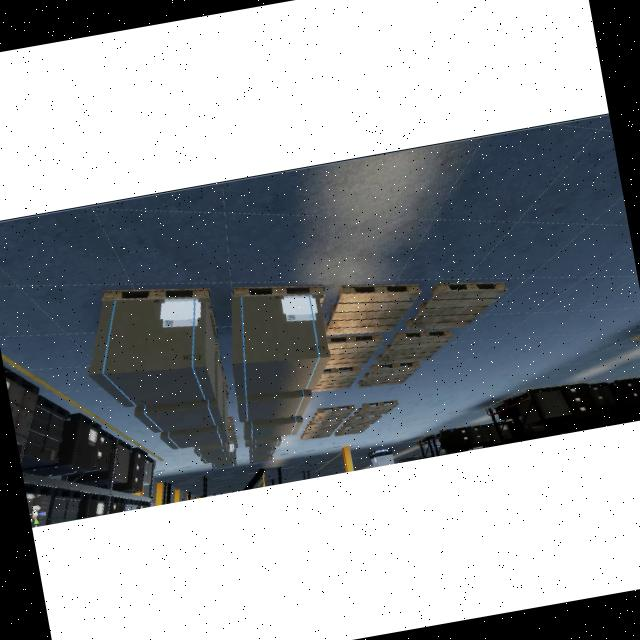wooden_pallet: (405, 281, 508, 328), (325, 283, 422, 332), (376, 328, 455, 365), (353, 399, 399, 417), (311, 405, 355, 422)
